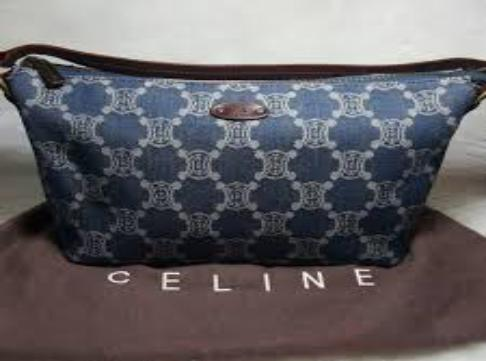CELINE: (99, 247, 382, 314)
